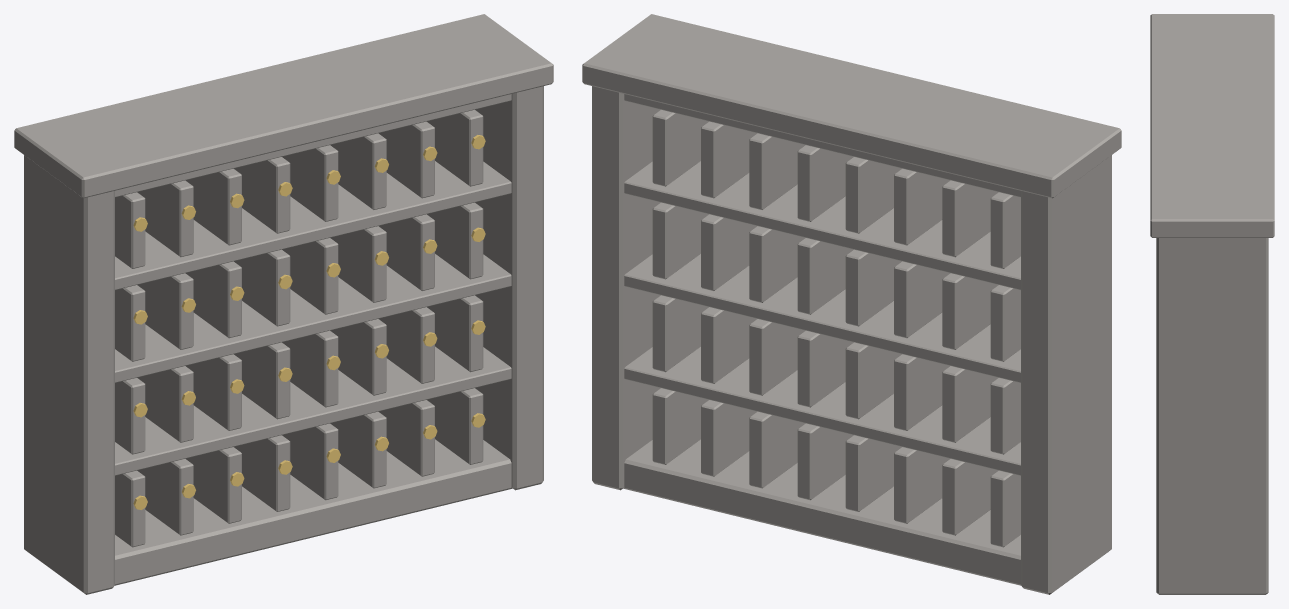
The model's file is hall_shelf.glb.
The picture shows the model from 3 angles, left to right: view 1: azimuth 30°, elevation 25°; view 2: azimuth 150°, elevation 25°; view 3: azimuth 270°, elevation 25°; orthographic projection. The views are drawn at different scales.
Parts seen in each view (by area): view 1: stone, gold; view 2: stone; view 3: stone.
Boxes of the visible parts, x1,y1,x2,y2 form: stone: (14,14,553,594); gold: (133,135,485,509); stone: (582,14,1121,594); stone: (1150,14,1274,594).
Size of the model in its own units: 3.3 by 2.82 by 0.84.
